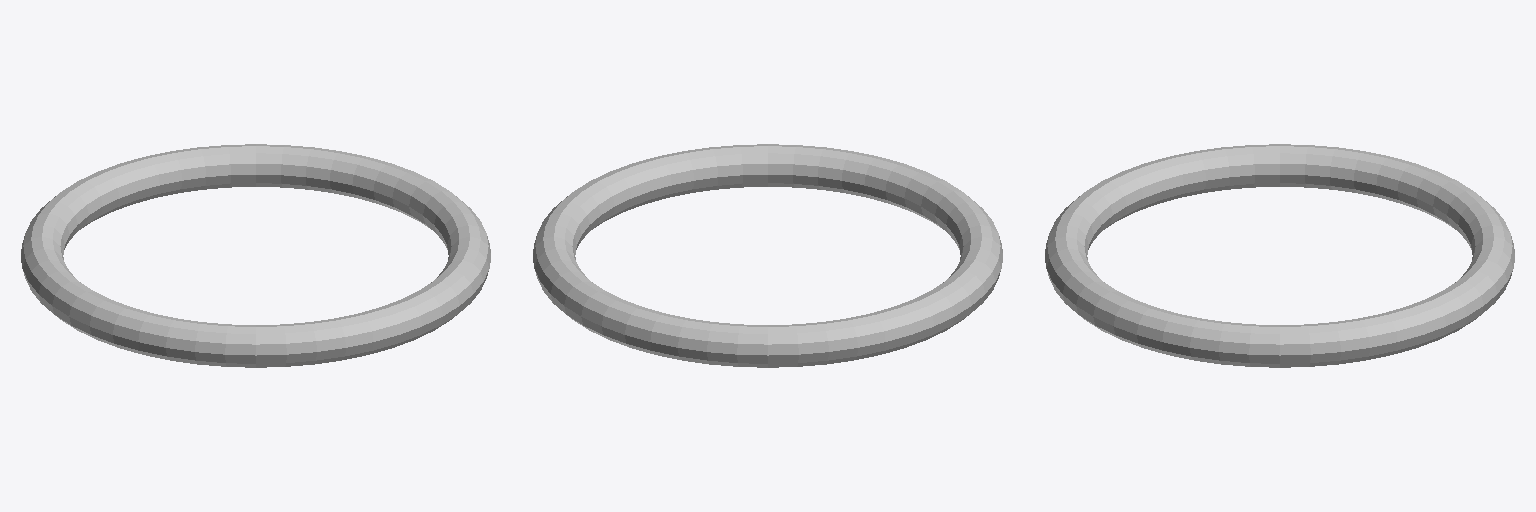
Rendered from Hoop.obj.
3 renders of one model, left to right at view 1: azimuth 30°, elevation 25°; view 2: azimuth 150°, elevation 25°; view 3: azimuth 270°, elevation 25°, orthographic.
Parts seen in each view (by area): view 1: Torus; view 2: Torus; view 3: Torus.
Boxes of the visible parts, x1=… form: Torus: x1=21, y1=144, x2=490, y2=367; Torus: x1=533, y1=144, x2=1002, y2=367; Torus: x1=1045, y1=144, x2=1514, y2=367.
Size of the model in its own units: 2.2 by 0.2 by 2.2.